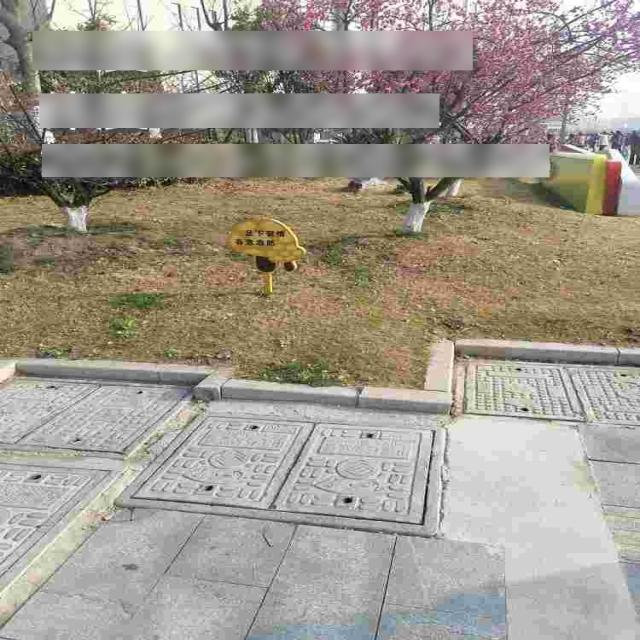Good: (135, 410, 448, 539), (0, 460, 137, 640), (0, 359, 197, 456), (448, 350, 640, 429)
